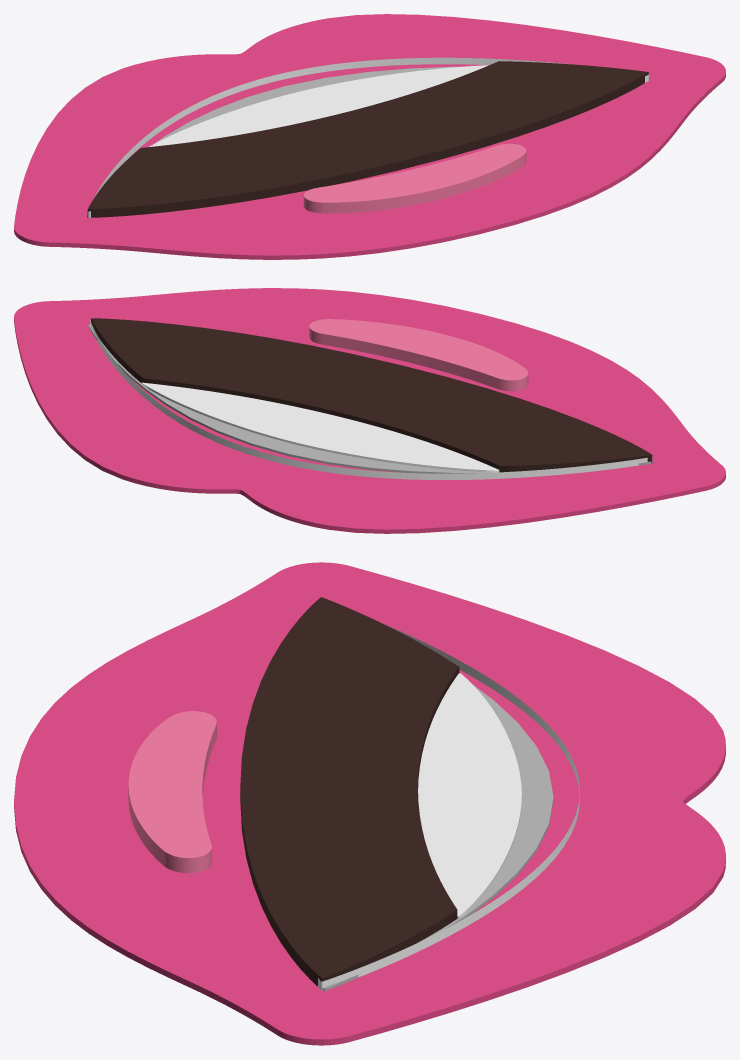
The model's file is emoji_u1f444.glb.
The picture shows the model from 3 angles, top to bottom: view 1: azimuth 30°, elevation 25°; view 2: azimuth 150°, elevation 25°; view 3: azimuth 270°, elevation 25°; orthographic projection. The views are drawn at different scales.
Visible parts, largest first — view 1: emoji_u1f444; view 2: emoji_u1f444; view 3: emoji_u1f444.
Part boxes in pixels (x1,y1,x2,y2): emoji_u1f444: (14, 14, 725, 259); emoji_u1f444: (14, 288, 725, 533); emoji_u1f444: (14, 562, 725, 1045).
Size of the model in its own units: 0.0339 by 0.0012 by 0.0214.
